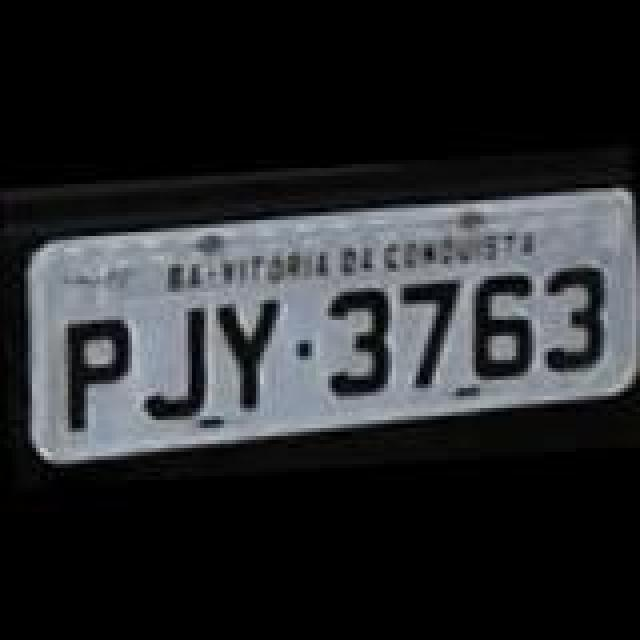3: (532, 262, 608, 378), (318, 280, 390, 400)
6: (464, 266, 532, 382)
7: (392, 268, 460, 388)
J: (138, 300, 218, 420)
P: (56, 304, 132, 432)
Y: (212, 290, 280, 414)
